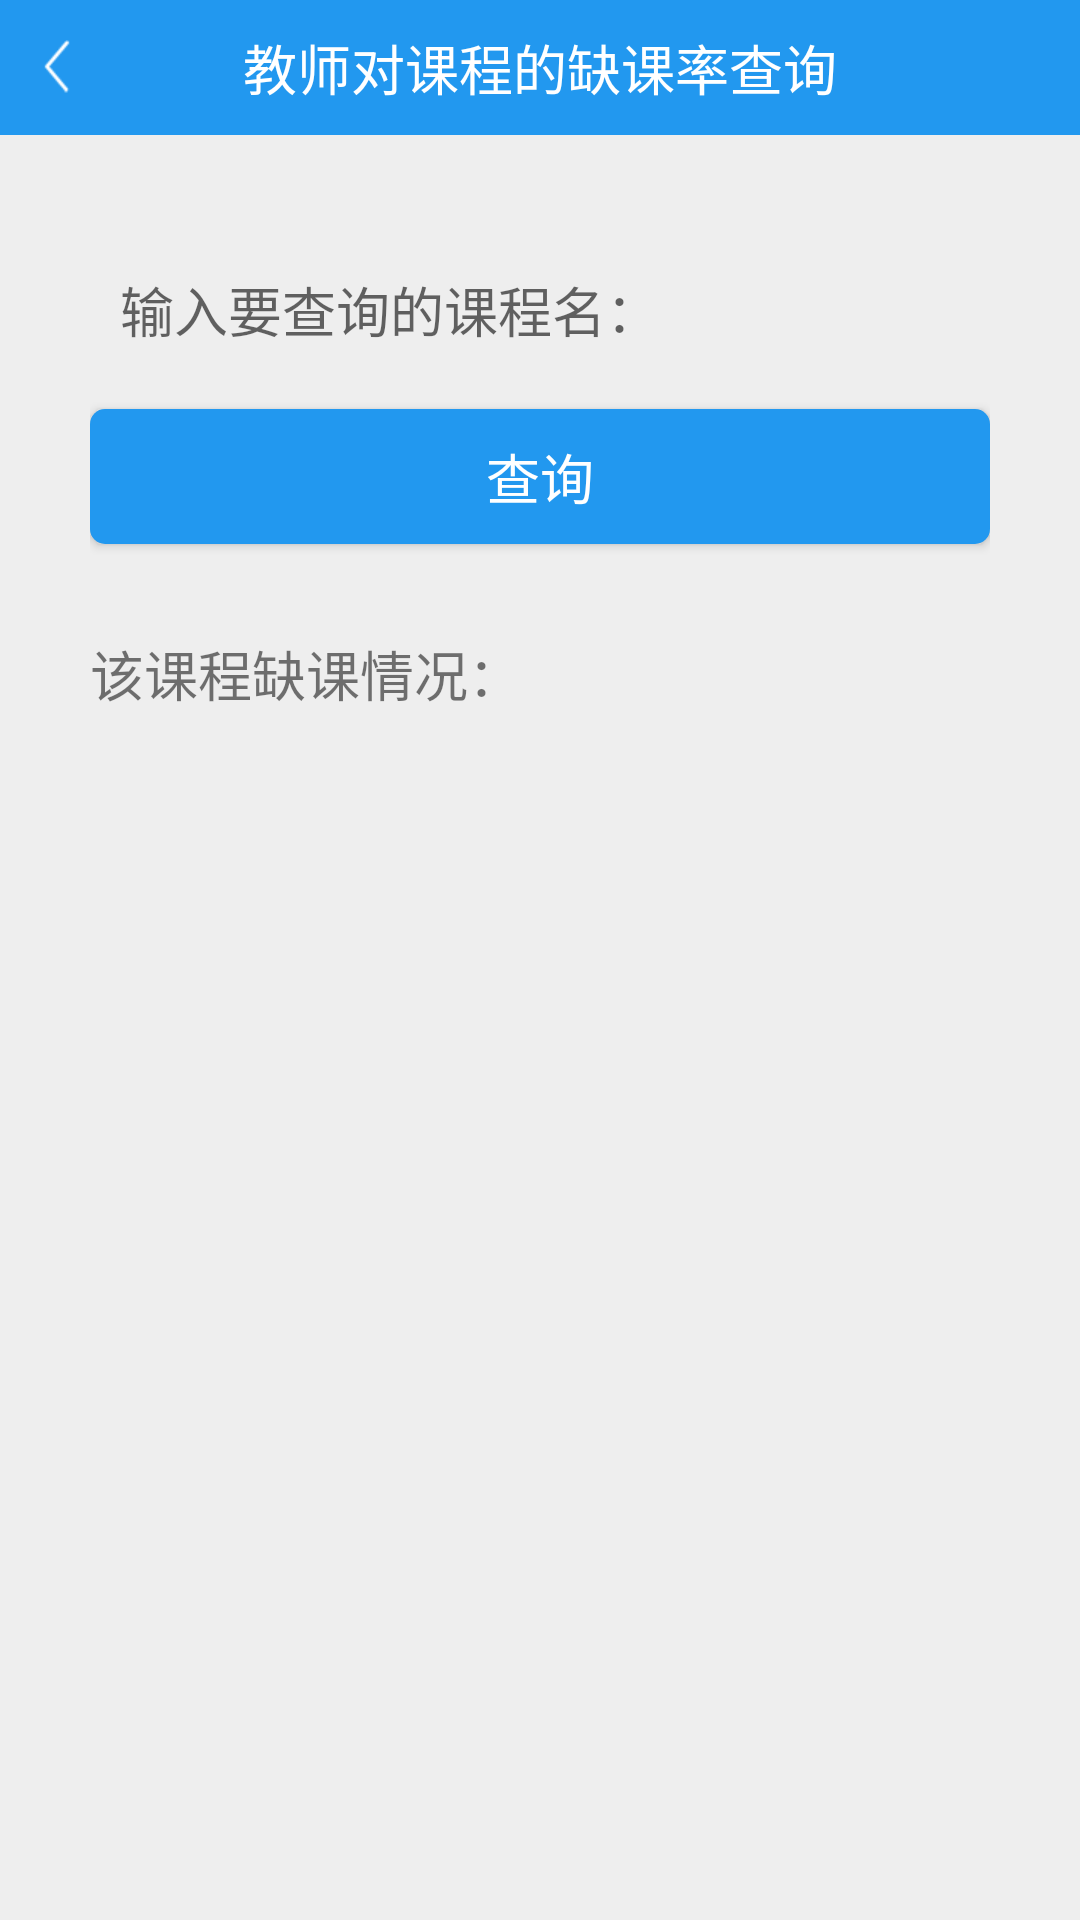

Where to tap for icons on this 1080×1920 app screen, as (x,y):
im back: (57,66)
